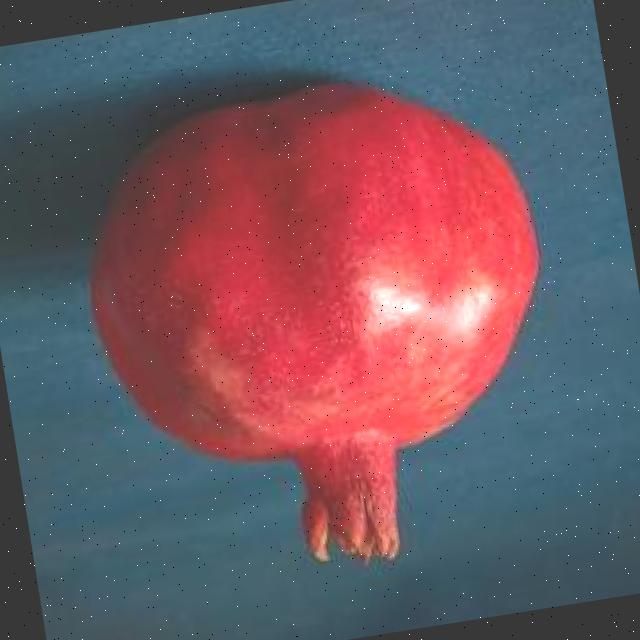Pomegranate: (57, 46, 586, 604)
